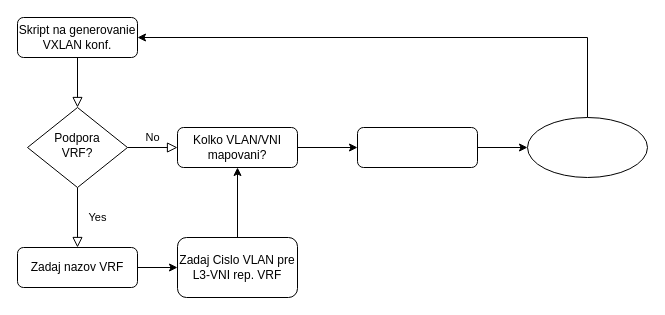
The diagram is 665 pixels wide and 315 high, and some of its shapes have lost their labels. The shapes that lost their labels are listed below. From the top down, each one's centre as x and y in pixels, then its label:
At [417,147]: "Cisleny-Prefix-pre-VNI".
At [587,147]: "Generuj slucku dotazov na VLAN-ID, nasledne konfig.".
